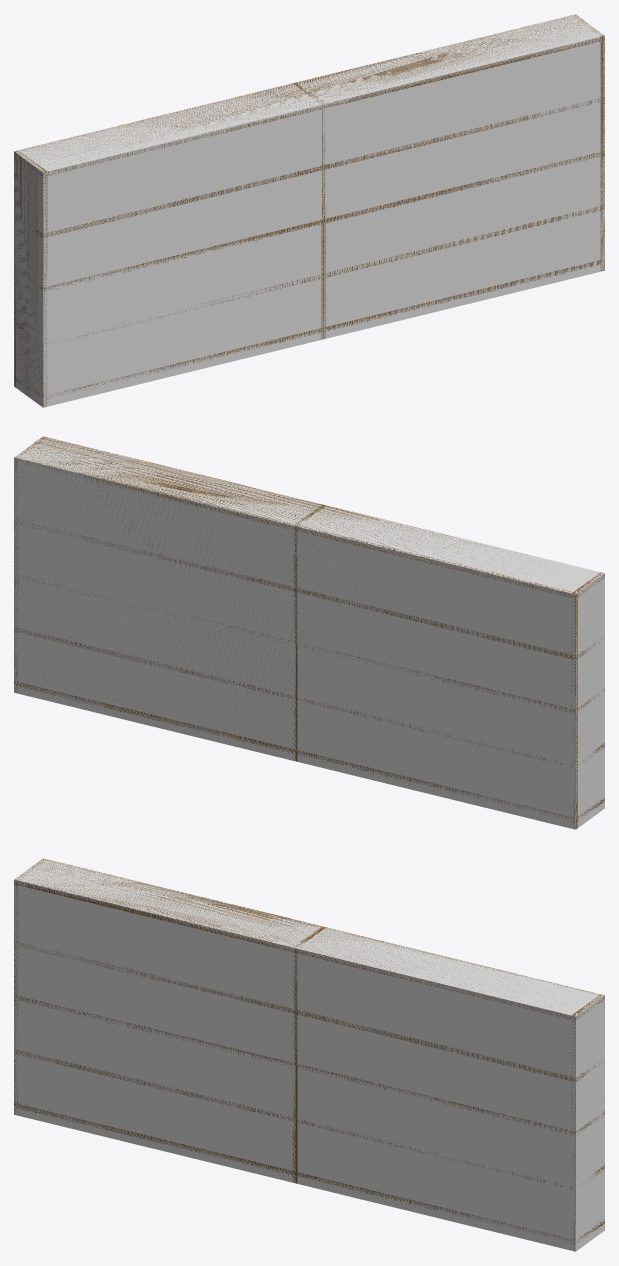
File: comic_shelf.mobile.glb
The picture shows the model from 3 angles, top to bottom: view 1: azimuth 30°, elevation 25°; view 2: azimuth 150°, elevation 25°; view 3: azimuth 330°, elevation 25°; orthographic projection.
Visible parts, largest first — view 1: COL_Shelf, ComicShelf; view 2: COL_Shelf, ComicShelf; view 3: COL_Shelf, ComicShelf.
Part boxes in pixels (<box>): COL_Shelf: <box>14,14,604,407</box>; ComicShelf: <box>14,14,604,407</box>; COL_Shelf: <box>14,436,604,829</box>; ComicShelf: <box>14,436,604,828</box>; COL_Shelf: <box>14,858,604,1251</box>; ComicShelf: <box>14,858,604,1250</box>.
Bounding box in the file's own units: 5 × 2 × 0.4498.
Materials: 8 (1 with a texture image).
